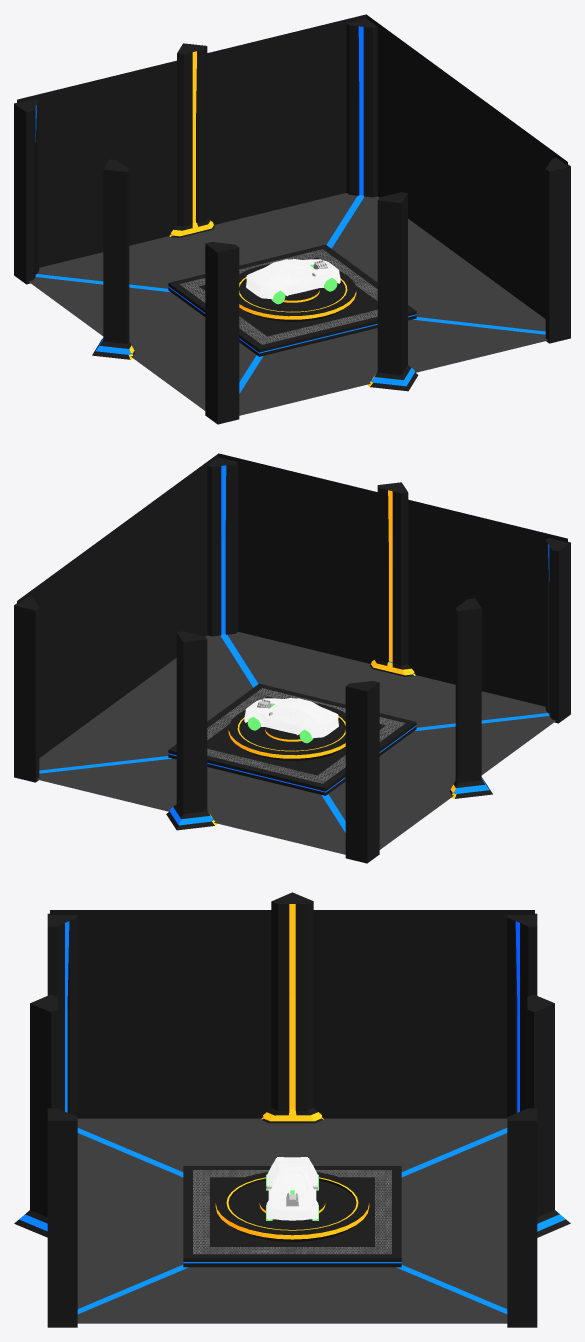
Rendered from coche.glb.
3 views of the same model, one above another, from view 1: azimuth 30°, elevation 25°; view 2: azimuth 150°, elevation 25°; view 3: azimuth 270°, elevation 25° (orthographic). The views are drawn at different scales.
Parts seen in each view (by area): view 1: Cube.003, Cube; view 2: Cube.003, Cube; view 3: Cube.003, Cube.
Part boxes in pixels (x1,y1,x2,y2): Cube.003: (14,14,570,424); Cube: (246,259,340,298); Cube.003: (14,453,570,863); Cube: (244,698,338,737); Cube.003: (14,892,570,1327); Cube: (266,1157,318,1220).
Bounding box in the file's own units: 84.49 × 39.3 × 89.89.
Materials: 7 (1 with a texture image).
